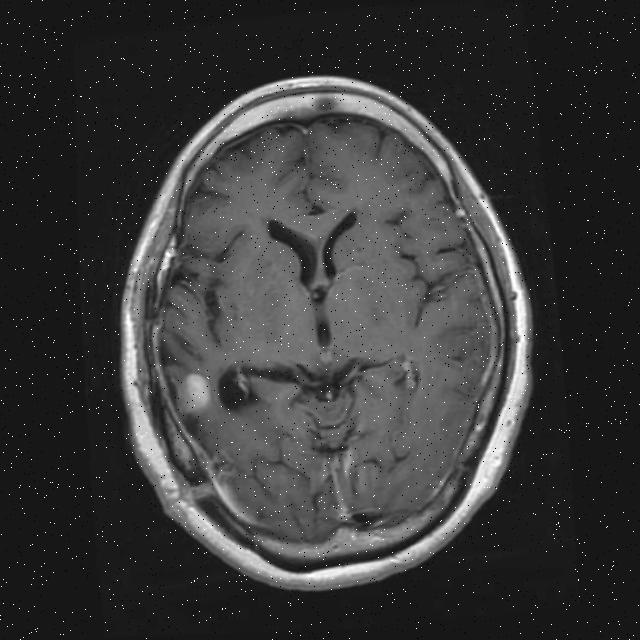Glioma: (170, 370, 211, 418)
